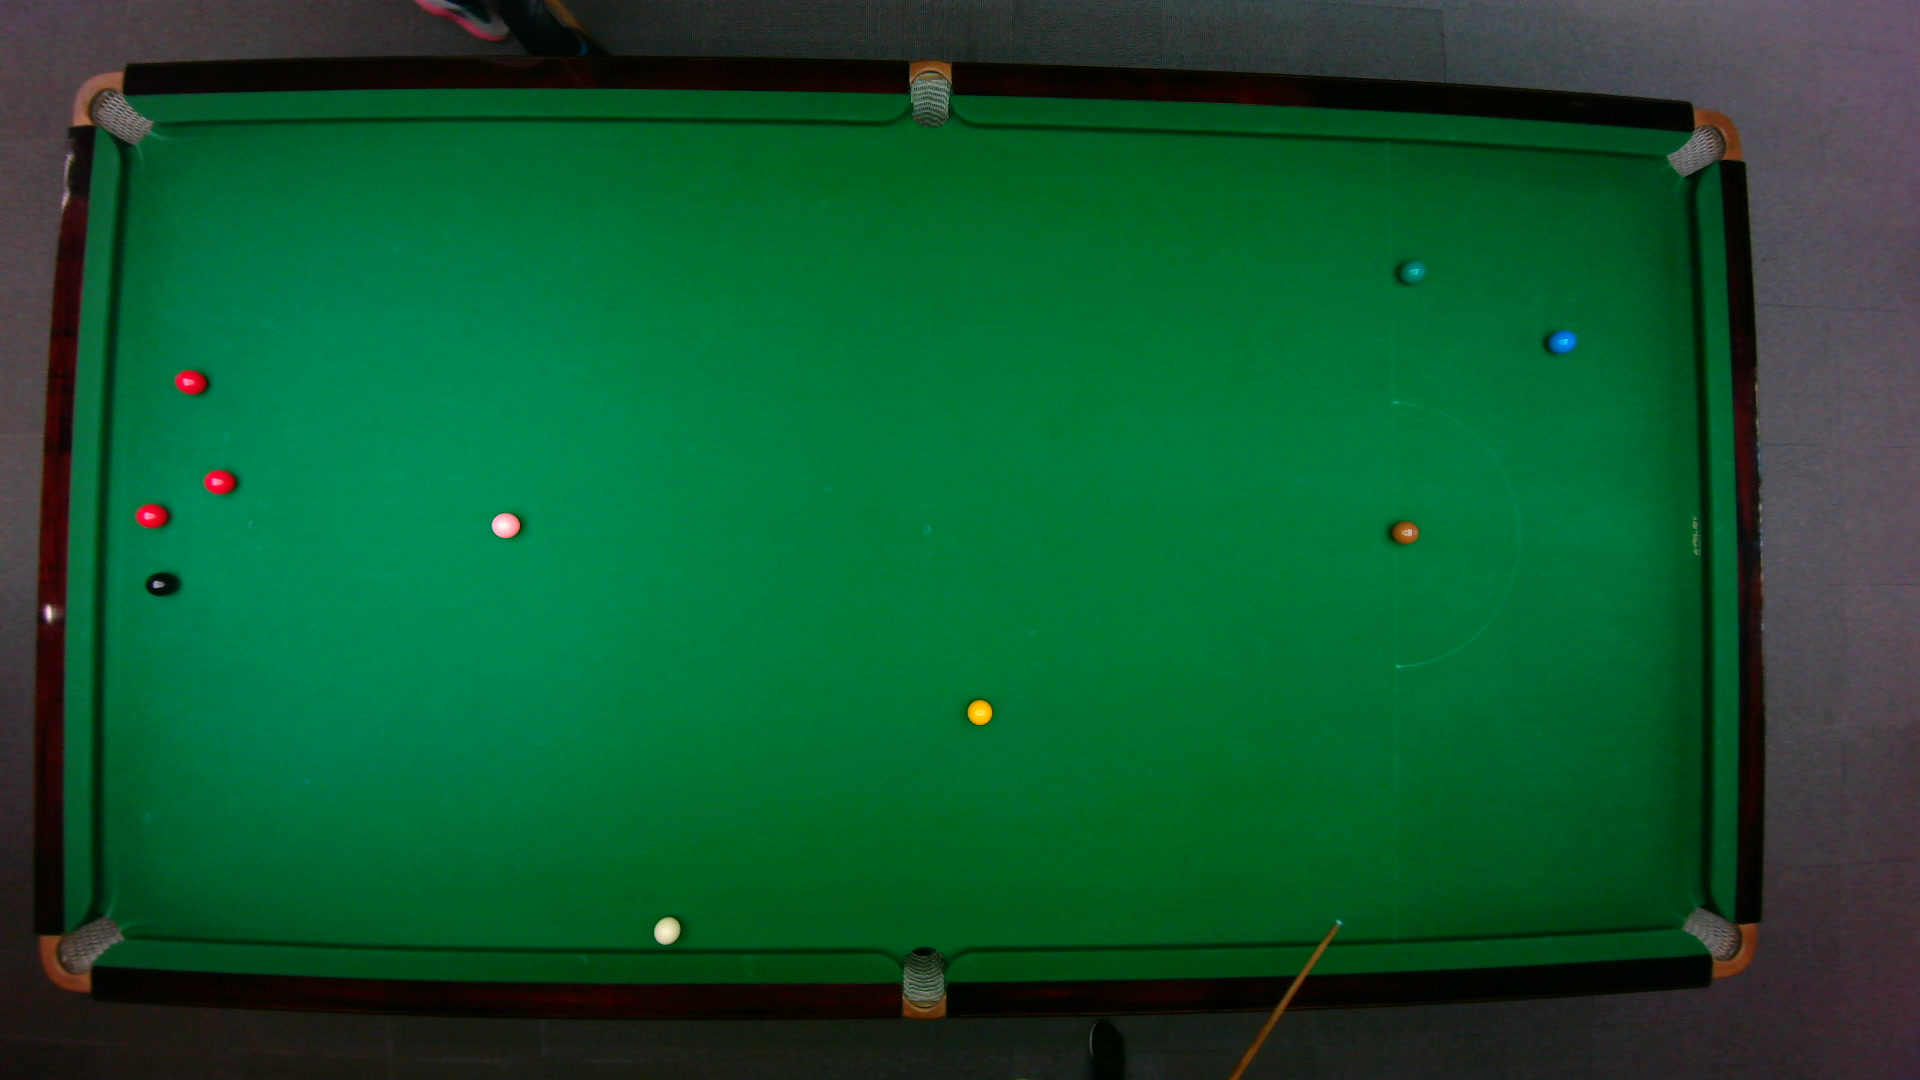bag: (37, 914, 125, 992), (69, 69, 153, 145), (1679, 905, 1758, 978), (1663, 107, 1741, 177), (901, 944, 944, 1021), (909, 57, 949, 128)
black: (142, 570, 175, 596)
blue: (1545, 327, 1577, 353)
brown: (1389, 520, 1419, 545)
cue: (1228, 915, 1346, 1080)
green: (1396, 257, 1427, 284)
pink: (489, 509, 521, 539)
red: (171, 368, 207, 396), (200, 467, 236, 495), (133, 501, 169, 527)
white: (651, 914, 680, 945)
yellow: (964, 696, 993, 727)
zone: (1390, 398, 1520, 669)
